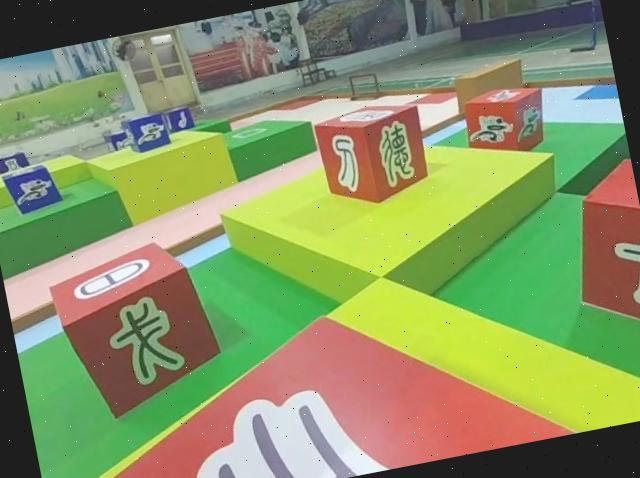R1: (459, 79, 552, 161)
R2 Fake: (19, 264, 592, 478), (41, 232, 230, 428), (309, 95, 433, 212)
R2 Real: (553, 153, 640, 368)
